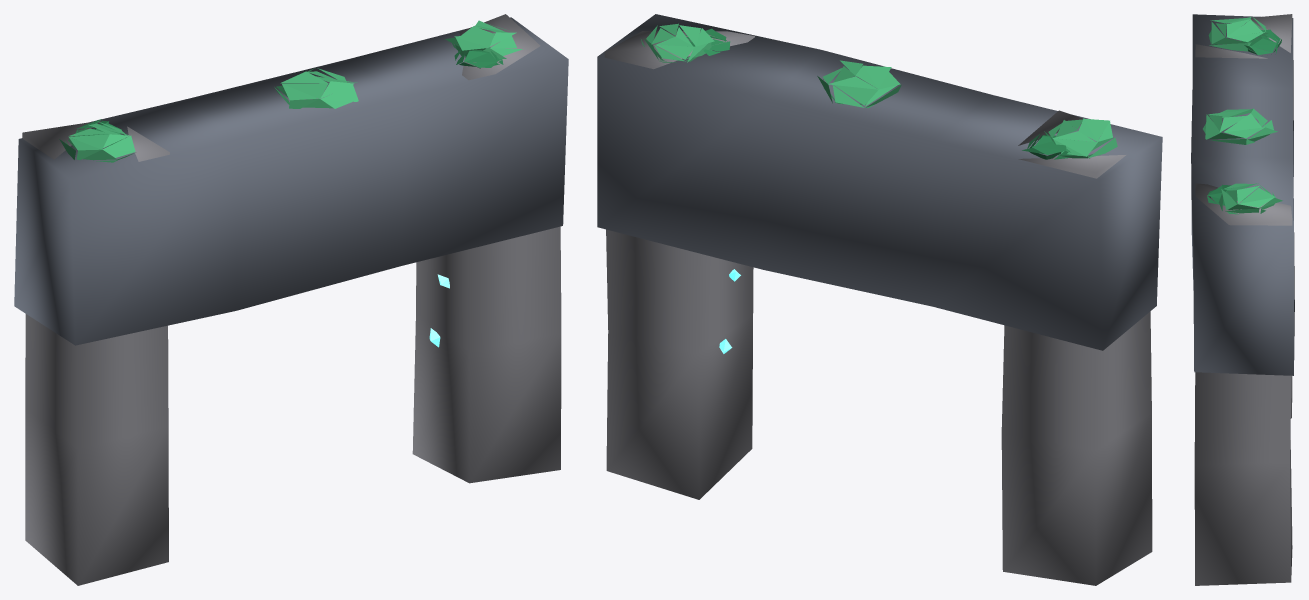
The model's file is arch.glb.
3 views of the same model, side by side, from view 1: azimuth 30°, elevation 25°; view 2: azimuth 150°, elevation 25°; view 3: azimuth 270°, elevation 25° (orthographic). The views are drawn at different scales.
Visible parts, largest first — view 1: Lintel, PillarL, PillarR, Moss4, Moss0, Moss2; view 2: Lintel, PillarL, PillarR, Moss4, Moss0, Moss2, Moss1; view 3: Lintel, PillarR, Moss4, Moss0, PillarL, Moss2, Moss1, Moss3.
Part boxes in pixels (x1,y1,x2,y2): Lintel: (14,17,568,345); PillarL: (22,120,169,585); PillarR: (412,14,561,483); Moss4: (274,68,358,108); Moss0: (59,121,135,162); Moss2: (445,20,522,59); Lintel: (597,14,1162,350); PillarL: (1001,110,1152,585); PillarR: (604,31,754,499); Moss4: (817,60,901,108); Moss0: (1044,118,1117,158); Moss2: (641,23,714,62); Moss1: (1022,134,1080,159); Lintel: (1191,14,1294,375); PillarR: (1194,183,1292,585); Moss4: (1203,108,1277,144); Moss0: (1208,17,1269,51); PillarL: (1195,14,1292,418); Moss2: (1218,183,1282,214); Moss1: (1242,29,1281,55); Moss3: (1207,184,1246,205).
Bounding box in the file's own units: 30.59 × 25.39 × 6.28.
